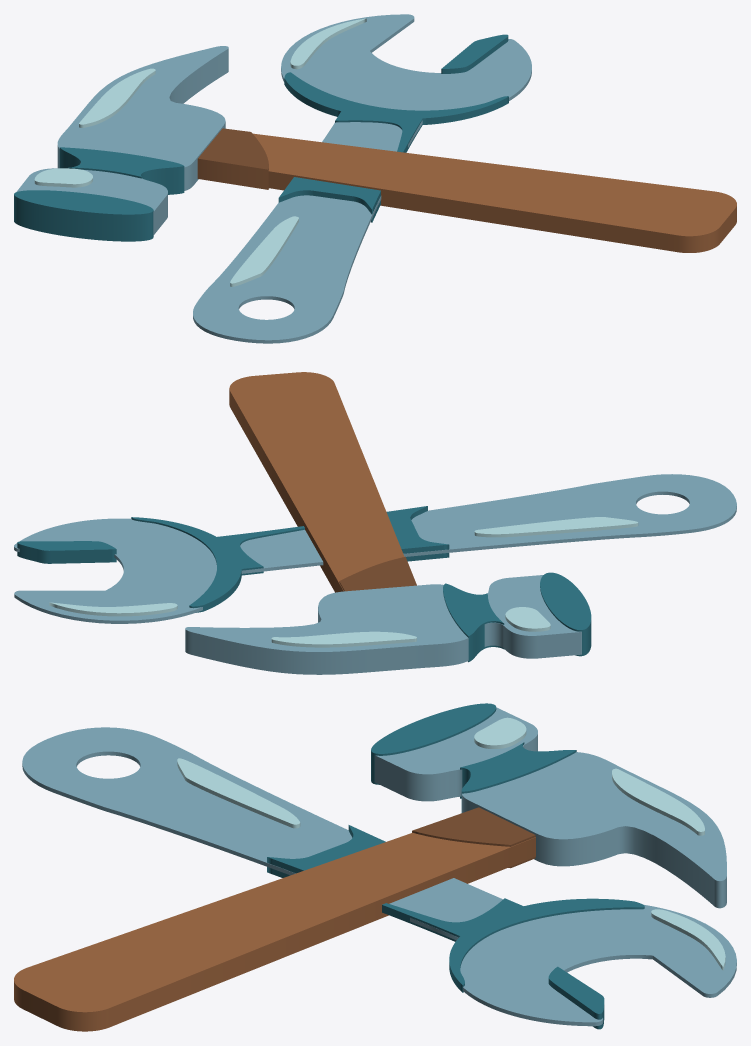
The model's file is emoji_u1f6e0.glb.
3 views of the same model, one above another, from view 1: azimuth 30°, elevation 25°; view 2: azimuth 150°, elevation 25°; view 3: azimuth 270°, elevation 25° (orthographic). The views are drawn at different scales.
Parts seen in each view (by area): view 1: emoji_u1f6e0; view 2: emoji_u1f6e0; view 3: emoji_u1f6e0.
Boxes of the visible parts, x1,y1,x2,y2 form: emoji_u1f6e0: (14,14,736,343); emoji_u1f6e0: (14,372,736,674); emoji_u1f6e0: (14,703,736,1031).
Size of the model in its own units: 0.0338 by 0.0018 by 0.0339.
